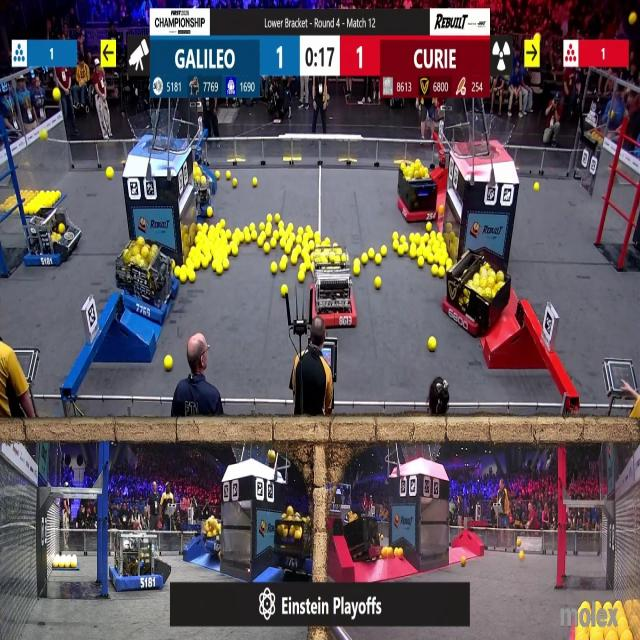ball_airborne: (54, 90, 62, 102), (40, 130, 47, 141), (270, 451, 276, 462)
ball_ground: (428, 338, 436, 352), (166, 356, 173, 370), (410, 246, 418, 258), (187, 272, 195, 284), (240, 232, 248, 244), (629, 12, 637, 24), (106, 168, 114, 179), (354, 265, 361, 277), (403, 242, 410, 254), (293, 245, 301, 255), (375, 278, 382, 289), (281, 285, 288, 296), (418, 256, 425, 267), (439, 268, 446, 279), (180, 273, 187, 284), (431, 266, 437, 278), (297, 273, 304, 283), (290, 254, 297, 264), (216, 267, 223, 277), (307, 238, 314, 248), (202, 261, 209, 271), (284, 244, 291, 254), (272, 264, 278, 275), (222, 261, 228, 272), (361, 253, 367, 264), (265, 243, 271, 254), (234, 230, 240, 241), (280, 255, 288, 263), (410, 234, 417, 243), (272, 231, 279, 240), (323, 238, 330, 247), (233, 245, 239, 255), (280, 262, 286, 272), (397, 246, 403, 256), (428, 253, 434, 263), (381, 246, 387, 256), (392, 241, 398, 251), (271, 239, 277, 249), (367, 249, 373, 259), (193, 261, 199, 271), (304, 232, 310, 242), (354, 257, 361, 265), (392, 233, 398, 242), (376, 255, 382, 264), (460, 557, 466, 566), (256, 238, 262, 247), (315, 233, 321, 242), (440, 205, 446, 214), (280, 240, 286, 249), (225, 231, 231, 240), (212, 263, 218, 272), (305, 253, 311, 262), (252, 232, 257, 242), (207, 208, 212, 218), (175, 267, 180, 277), (306, 225, 313, 232), (268, 214, 274, 222), (259, 222, 265, 230), (536, 186, 542, 194), (399, 236, 405, 244), (276, 214, 282, 222), (287, 223, 293, 231), (250, 222, 256, 230), (298, 264, 304, 272), (220, 219, 226, 227), (203, 222, 209, 230), (342, 254, 348, 262), (426, 222, 431, 231), (424, 234, 429, 243), (244, 226, 250, 233), (252, 178, 257, 186), (234, 178, 238, 188), (520, 552, 525, 560), (225, 172, 230, 180), (297, 226, 302, 234), (306, 264, 311, 272), (517, 537, 522, 545), (279, 221, 284, 228), (185, 258, 190, 265), (216, 172, 220, 180)
goal: (460, 118, 517, 158), (128, 116, 186, 151)
robot_blue: (112, 240, 180, 324), (23, 206, 79, 270), (110, 536, 168, 592), (273, 511, 313, 578), (191, 162, 217, 215)
robot_red: (442, 261, 512, 337), (312, 258, 355, 327), (397, 160, 438, 222), (341, 516, 384, 566)
